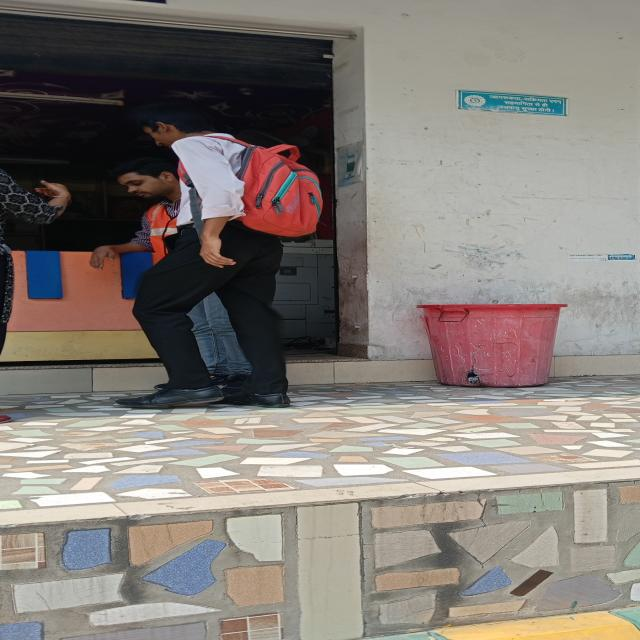unsafe: (122, 106, 300, 404)
